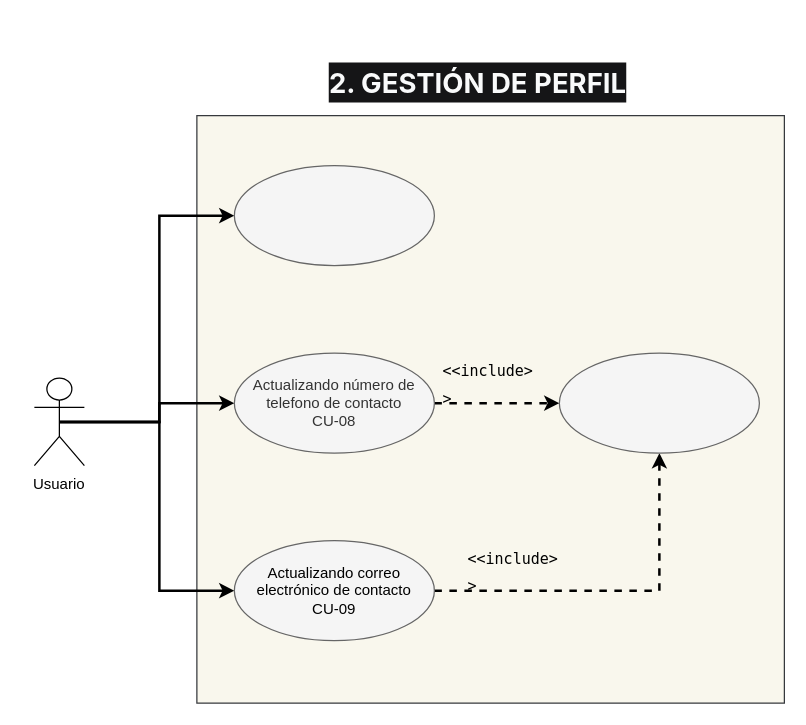
The diagram is 806 pixels wide and 725 high, and some of its shapes have lost their labels. The shapes that lost their labels are listed below. From the top down, each one's centre as x and y in pixels, then its label:
pixel 333 215: Accediendo a la sección Perfil del portal CU-07
pixel 658 402: Validar contraseña actual
